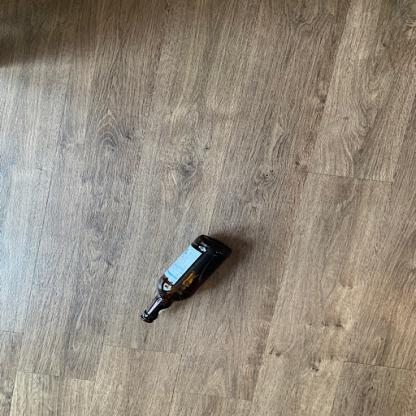trash: (138, 235, 232, 325)
